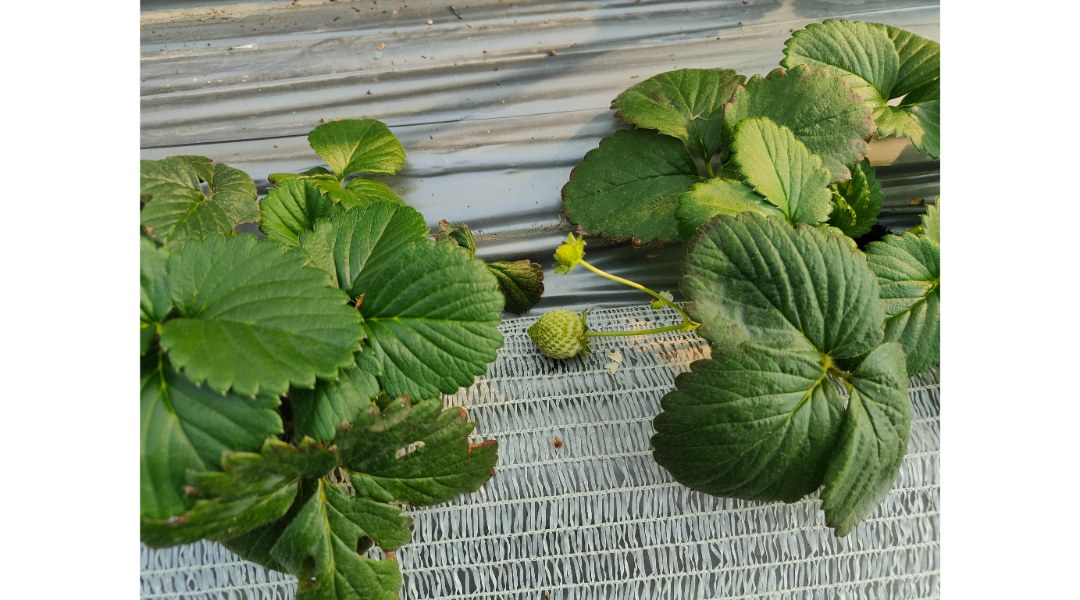berry: (525, 307, 586, 370), (545, 220, 595, 275)
strain: (589, 262, 687, 305), (591, 322, 691, 340)
